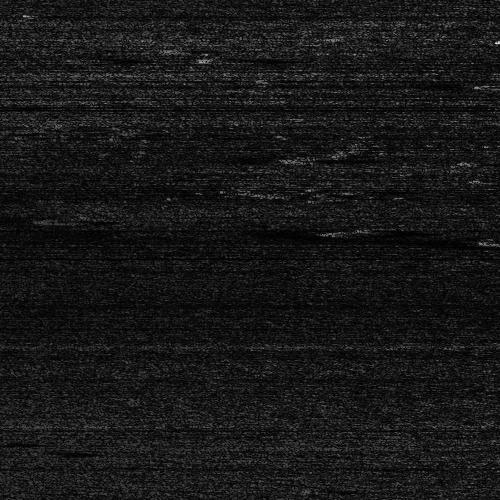object: (310, 227, 383, 234), (190, 54, 253, 59), (260, 155, 313, 160), (16, 217, 69, 222), (466, 236, 500, 243), (461, 82, 500, 87)
shadow: (347, 227, 468, 234), (287, 155, 369, 160), (222, 54, 300, 59), (0, 440, 27, 445), (43, 217, 67, 222), (482, 82, 500, 87)
